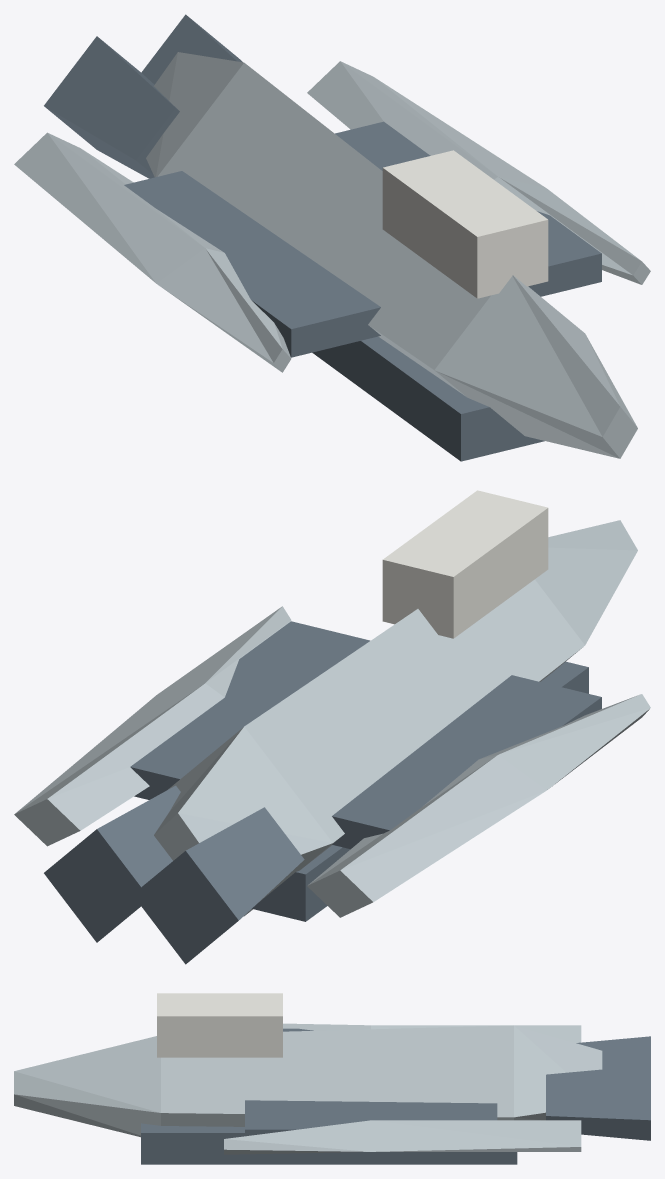
3 views of the same model, one above another, from view 1: azimuth 30°, elevation 25°; view 2: azimuth 150°, elevation 25°; view 3: azimuth 270°, elevation 25° (orthographic). The views are drawn at different scales.
Bounding box in the file's own units: 3.17 × 1.71 × 6.73.
